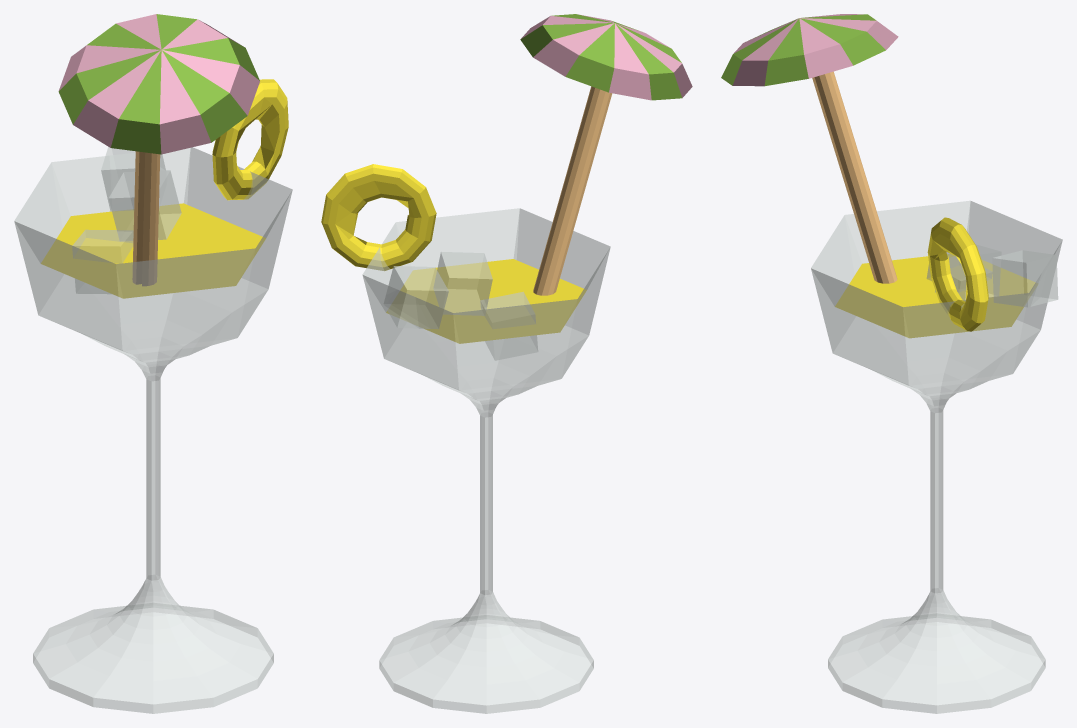
The model's file is Cocktail.glb.
The picture shows the model from 3 angles, left to right: view 1: azimuth 30°, elevation 25°; view 2: azimuth 150°, elevation 25°; view 3: azimuth 270°, elevation 25°; orthographic projection. The views are drawn at different scales.
Parts seen in each view (by area): view 1: Node; view 2: Node; view 3: Node.
Part boxes in pixels (x1=…): Node: x1=14, y1=14, x2=292, y2=713; Node: x1=321, y1=14, x2=692, y2=713; Node: x1=721, y1=14, x2=1062, y2=713.
Bounding box in the file's own units: 0.1414 × 0.2997 × 0.1496.
